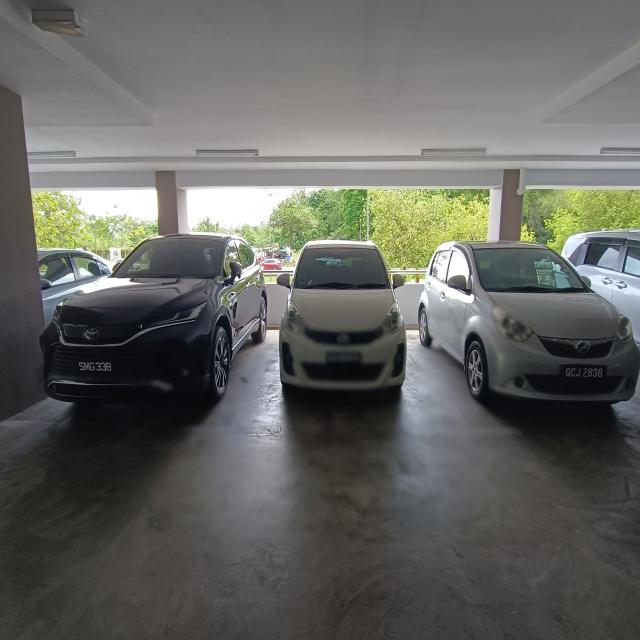PeroduaMyvi: (416, 236, 640, 444), (274, 232, 417, 416)
